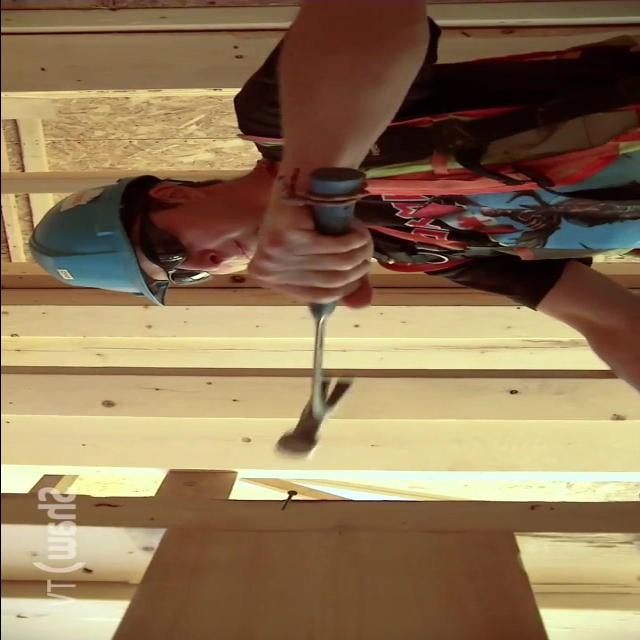helmet: (13, 168, 183, 310)
